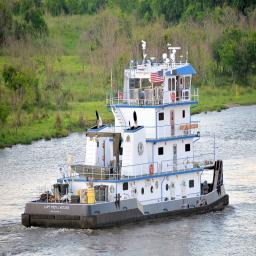tugboat: (20, 40, 231, 233)
